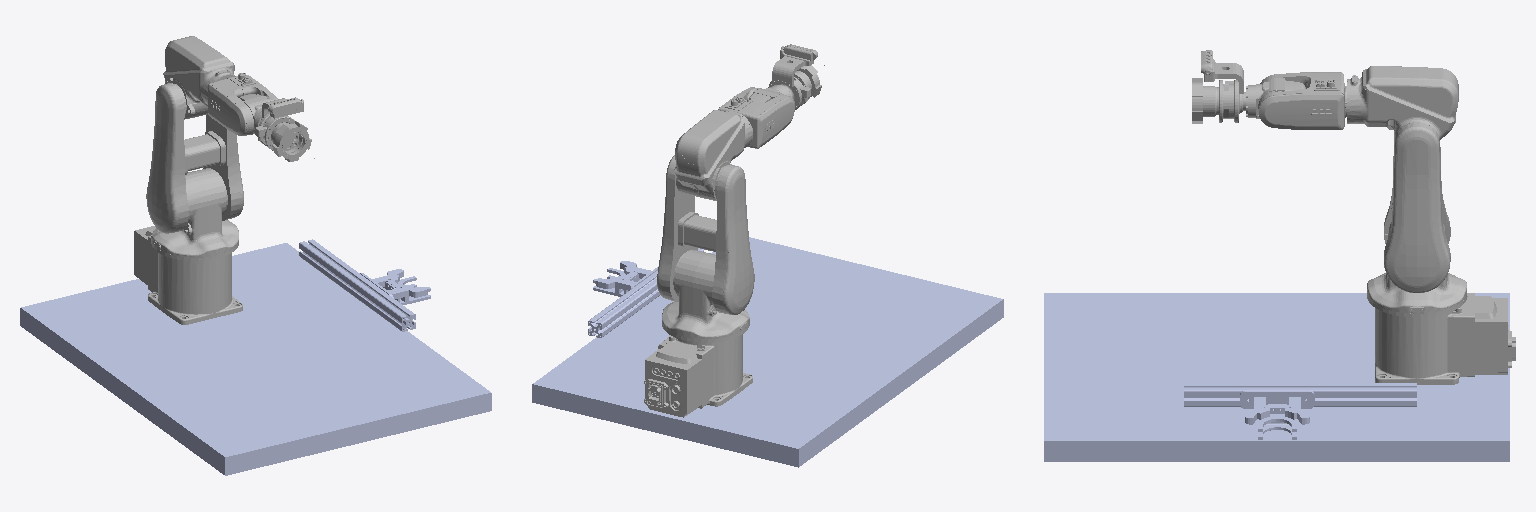
The robot description file, URDF, robot "FullSimV7":
<?xml version="1.0" encoding="utf-8"?>
<!-- This URDF was automatically created by SolidWorks to URDF Exporter! Originally created by [author] ([email redacted]) 
     Commit Version: 1.6.0-4-g7f85cfe  Build Version: 1.6.7995.38578
     For more information, please see http://wiki.ros.org/sw_urdf_exporter -->
<robot
  name="FullSimV7">
  <link
    name="base_link">
    <inertial>
      <origin
        xyz="8.01221018465203E-05 0.0420392814407755 0.0796375119984053"
        rpy="0 0 0" />
      <mass
        value="6.21501792819702" />
      <inertia
        ixx="0.0270340655331265"
        ixy="-2.57805354020046E-05"
        ixz="5.64681783540072E-06"
        iyy="0.0246211805699077"
        iyz="0.000231715875730709"
        izz="0.0251985329497968" />
    </inertial>
    <visual>
      <origin
        xyz="0 0 0"
        rpy="0 0 0" />
      <geometry>
        <mesh
          filename="package://FullSimV7/meshes/base_link.STL" />
      </geometry>
      <material
        name="">
        <color
          rgba="0.752941176470588 0.752941176470588 0.752941176470588 1" />
      </material>
    </visual>
    <collision>
      <origin
        xyz="0 0 0"
        rpy="0 0 0" />
      <geometry>
        <mesh
          filename="package://FullSimV7/meshes/base_link.STL" />
      </geometry>
    </collision>
  </link>
  <link
    name="table">
    <inertial>
      <origin
        xyz="-0.000587334659227223 -0.036835217277921 0.00384621822964123"
        rpy="0 0 0" />
      <mass
        value="38.2098634955696" />
      <inertia
        ixx="1.76951510127153"
        ixy="7.87860313616648E-13"
        ixz="-6.00695729462105E-09"
        iyy="4.89848881605849"
        iyz="-1.52454354921741E-06"
        izz="3.14477810036567" />
    </inertial>
    <visual>
      <origin
        xyz="0 0 0"
        rpy="0 0 0" />
      <geometry>
        <mesh
          filename="package://FullSimV7/meshes/table.STL" />
      </geometry>
      <material
        name="">
        <color
          rgba="0.792156862745098 0.819607843137255 0.933333333333333 1" />
      </material>
    </visual>
    <collision>
      <origin
        xyz="0 0 0"
        rpy="0 0 0" />
      <geometry>
        <mesh
          filename="package://FullSimV7/meshes/table.STL" />
      </geometry>
    </collision>
  </link>
  <joint
    name="robot_to_table"
    type="fixed">
    <origin
      xyz="0 -0.3 -0.06"
      rpy="-1.5707963267949 0 -1.5707963267949" />
    <parent
      link="base_link" />
    <child
      link="table" />
    <axis
      xyz="0 0 0" />
  </joint>
  <link
    name="link1">
    <inertial>
      <origin
        xyz="9.76732621401681E-05 -0.0934118532229969 -0.000119298053319146"
        rpy="0 0 0" />
      <mass
        value="3.06699528368256" />
      <inertia
        ixx="0.0122691119268035"
        ixy="-6.06301855244587E-08"
        ixz="-6.55505866407348E-08"
        iyy="0.010420464941063"
        iyz="1.02323146817326E-05"
        izz="0.0124355568876054" />
    </inertial>
    <visual>
      <origin
        xyz="0 0 0"
        rpy="0 0 0" />
      <geometry>
        <mesh
          filename="package://FullSimV7/meshes/link1.STL" />
      </geometry>
      <material
        name="">
        <color
          rgba="0.752941176470588 0.752941176470588 0.752941176470588 1" />
      </material>
    </visual>
    <collision>
      <origin
        xyz="0 0 0"
        rpy="0 0 0" />
      <geometry>
        <mesh
          filename="package://FullSimV7/meshes/link1.STL" />
      </geometry>
    </collision>
  </link>
  <joint
    name="joint1"
    type="continuous">
    <origin
      xyz="0 0 0.145"
      rpy="-1.5707963267949 0 -1.5707963267949" />
    <parent
      link="base_link" />
    <child
      link="link1" />
    <axis
      xyz="0 1 0" />
    <limit
      lower="-2.8798"
      upper="2.8798"
      effort="30"
      velocity="4.3633" />
  </joint>
  <link
    name="link2">
    <inertial>
      <origin
        xyz="0.000778290754818719 -0.111243319477227 -0.00211702728559995"
        rpy="0 0 0" />
      <mass
        value="3.90867225505932" />
      <inertia
        ixx="0.0381250476767169"
        ixy="2.39514964920965E-07"
        ixz="6.58338782216223E-07"
        iyy="0.00472640445966927"
        iyz="2.44754291823662E-05"
        izz="0.0405764423241449" />
    </inertial>
    <visual>
      <origin
        xyz="0 0 0"
        rpy="0 0 0" />
      <geometry>
        <mesh
          filename="package://FullSimV7/meshes/link2.STL" />
      </geometry>
      <material
        name="">
        <color
          rgba="0.752941176470588 0.752941176470588 0.752941176470588 1" />
      </material>
    </visual>
    <collision>
      <origin
        xyz="0 0 0"
        rpy="0 0 0" />
      <geometry>
        <mesh
          filename="package://FullSimV7/meshes/link2.STL" />
      </geometry>
    </collision>
  </link>
  <joint
    name="joint2"
    type="continuous">
    <origin
      xyz="0 -0.135 0"
      rpy="0 0 0" />
    <parent
      link="link1" />
    <child
      link="link2" />
    <axis
      xyz="0 0 1" />
    <limit
      lower="-1.9199"
      upper="1.9199"
      effort="30"
      velocity="4.3633" />
  </joint>
  <link
    name="link3">
    <inertial>
      <origin
        xyz="0.022807862091609 -0.0679103941631886 0.00106436584971425"
        rpy="0 0 0" />
      <mass
        value="2.94371284994558" />
      <inertia
        ixx="0.00563959160367682"
        ixy="0.00319915568103023"
        ixz="0.000121370698569511"
        iyy="0.0109004054439392"
        iyz="-0.000112947532054193"
        izz="0.0122023306054157" />
    </inertial>
    <visual>
      <origin
        xyz="0 0 0"
        rpy="0 0 0" />
      <geometry>
        <mesh
          filename="package://FullSimV7/meshes/link3.STL" />
      </geometry>
      <material
        name="">
        <color
          rgba="0.752941176470588 0.752941176470588 0.752941176470588 1" />
      </material>
    </visual>
    <collision>
      <origin
        xyz="0 0 0"
        rpy="0 0 0" />
      <geometry>
        <mesh
          filename="package://FullSimV7/meshes/link3.STL" />
      </geometry>
    </collision>
  </link>
  <joint
    name="joint3"
    type="continuous">
    <origin
      xyz="0 -0.27 0"
      rpy="0 0 0" />
    <parent
      link="link2" />
    <child
      link="link3" />
    <axis
      xyz="0 0 1" />
    <limit
      lower="-1.2217"
      upper="1.9199"
      effort="30"
      velocity="4.3633" />
  </joint>
  <link
    name="link4">
    <inertial>
      <origin
        xyz="0.0761733794571278 -0.0104055180752324 0.000153408208564695"
        rpy="0 0 0" />
      <mass
        value="1.32786358676143" />
      <inertia
        ixx="0.00104441110074889"
        ixy="-5.6933503274904E-06"
        ixz="-4.64060997837912E-05"
        iyy="0.00335577028738533"
        iyz="-8.37899053841392E-07"
        izz="0.00388434077701931" />
    </inertial>
    <visual>
      <origin
        xyz="0 0 0"
        rpy="0 0 0" />
      <geometry>
        <mesh
          filename="package://FullSimV7/meshes/link4.STL" />
      </geometry>
      <material
        name="">
        <color
          rgba="0.752941176470588 0.752941176470588 0.752941176470588 1" />
      </material>
    </visual>
    <collision>
      <origin
        xyz="0 0 0"
        rpy="0 0 0" />
      <geometry>
        <mesh
          filename="package://FullSimV7/meshes/link4.STL" />
      </geometry>
    </collision>
  </link>
  <joint
    name="joint4"
    type="continuous">
    <origin
      xyz="0.148530487442461 -0.0700000000000001 0"
      rpy="0 0 0" />
    <parent
      link="link3" />
    <child
      link="link4" />
    <axis
      xyz="1 0 0" />
    <limit
      lower="-2.7953"
      upper="2.7953"
      effort="30"
      velocity="5.5851" />
  </joint>
  <link
    name="link5">
    <inertial>
      <origin
        xyz="-0.00109483653040998 -0.00993778308121185 -3.68522372524093E-05"
        rpy="0 0 0" />
      <mass
        value="0.546626828584249" />
      <inertia
        ixx="0.000404579534029812"
        ixy="-4.2562823211924E-07"
        ixz="1.84466415886299E-06"
        iyy="0.000290010440170718"
        iyz="-8.5801776169596E-09"
        izz="0.000367479482204773" />
    </inertial>
    <visual>
      <origin
        xyz="0 0 0"
        rpy="0 0 0" />
      <geometry>
        <mesh
          filename="package://FullSimV7/meshes/link5.STL" />
      </geometry>
      <material
        name="">
        <color
          rgba="0.752941176470588 0.752941176470588 0.752941176470588 1" />
      </material>
    </visual>
    <collision>
      <origin
        xyz="0 0 0"
        rpy="0 0 0" />
      <geometry>
        <mesh
          filename="package://FullSimV7/meshes/link5.STL" />
      </geometry>
    </collision>
  </link>
  <joint
    name="joint5"
    type="continuous">
    <origin
      xyz="0.153469512557526 -0.0199999999999999 0"
      rpy="-3.14159265358979 0 0" />
    <parent
      link="link4" />
    <child
      link="link5" />
    <axis
      xyz="0 0 1" />
    <limit
      lower="-2.0944"
      upper="2.0944"
      effort="30"
      velocity="5.5851" />
  </joint>
  <link
    name="link6">
    <inertial>
      <origin
        xyz="0.00121542455406494 0.0513577285751537 0.0155013484239185"
        rpy="0 0 0" />
      <mass
        value="0.531526383714213" />
      <inertia
        ixx="0.00029979262466505"
        ixy="4.10956668633225E-06"
        ixz="1.78389382276731E-06"
        iyy="0.000432419044233939"
        iyz="-1.40279393876341E-05"
        izz="0.000340964239376309" />
    </inertial>
    <visual>
      <origin
        xyz="0 0 0"
        rpy="0 0 0" />
      <geometry>
        <mesh
          filename="package://FullSimV7/meshes/link6.STL" />
      </geometry>
      <material
        name="">
        <color
          rgba="0.752941176470588 0.752941176470588 0.752941176470588 1" />
      </material>
    </visual>
    <collision>
      <origin
        xyz="0 0 0"
        rpy="0 0 0" />
      <geometry>
        <mesh
          filename="package://FullSimV7/meshes/link6.STL" />
      </geometry>
    </collision>
  </link>
  <joint
    name="joint6"
    type="continuous">
    <origin
      xyz="0.0700000000000162 -0.00999999999999979 0"
      rpy="1.5707963267949 -1.57079630572147 3.14159265358979" />
    <parent
      link="link5" />
    <child
      link="link6" />
    <axis
      xyz="0 1 0" />
    <limit
      lower="-6.9813"
      upper="6.9813"
      effort="30"
      velocity="7.3304" />
  </joint>
  <link
    name="dummy_with_out_tool">
    <inertial>
      <origin
        xyz="-6.08150040676256E-14 -0.00999999999989892 0"
        rpy="0 0 0" />
      <mass
        value="4.38757242489562E-06" />
      <inertia
        ixx="1.89756037081267E-12"
        ixy="5.06471855932574E-28"
        ixz="4.5203839485621E-43"
        iyy="3.0638586708094E-12"
        iyz="2.6102017677249E-28"
        izz="1.89756037081267E-12" />
    </inertial>
    <visual>
      <origin
        xyz="0 0 0"
        rpy="0 0 0" />
      <geometry>
        <mesh
          filename="package://FullSimV7/meshes/dummy_with_out_tool.STL" />
      </geometry>
      <material
        name="">
        <color
          rgba="0.792156862745098 0.819607843137255 0.933333333333333 1" />
      </material>
    </visual>
    <collision>
      <origin
        xyz="0 0 0"
        rpy="0 0 0" />
      <geometry>
        <mesh
          filename="package://FullSimV7/meshes/dummy_with_out_tool.STL" />
      </geometry>
    </collision>
  </link>
  <joint
    name="dummy_1_joint"
    type="fixed">
    <origin
      xyz="0 0.0938244 0"
      rpy="3.14159265358979 0 3.14159265358979" />
    <parent
      link="link6" />
    <child
      link="dummy_with_out_tool" />
    <axis
      xyz="0 0 0" />
  </joint>
  <link
    name="dummy_with_tool">
    <inertial>
      <origin
        xyz="-6.07597235231416E-14 -0.00999999999987444 1.11022302462516E-16"
        rpy="0 0 0" />
      <mass
        value="4.38757242489513E-06" />
      <inertia
        ixx="1.89756037081238E-12"
        ixy="-5.06471855932543E-28"
        ixz="-2.12907918298444E-43"
        iyy="3.06385867080906E-12"
        iyz="4.76720308320444E-28"
        izz="1.89756037081238E-12" />
    </inertial>
    <visual>
      <origin
        xyz="0 0 0"
        rpy="0 0 0" />
      <geometry>
        <mesh
          filename="package://FullSimV7/meshes/dummy_with_tool.STL" />
      </geometry>
      <material
        name="">
        <color
          rgba="0.792156862745098 0.819607843137255 0.933333333333333 1" />
      </material>
    </visual>
    <collision>
      <origin
        xyz="0 0 0"
        rpy="0 0 0" />
      <geometry>
        <mesh
          filename="package://FullSimV7/meshes/dummy_with_tool.STL" />
      </geometry>
    </collision>
  </link>
  <joint
    name="dummy_2_joint"
    type="fixed">
    <origin
      xyz="0 0.106 0"
      rpy="3.14159265358979 0 0" />
    <parent
      link="dummy_with_out_tool" />
    <child
      link="dummy_with_tool" />
    <axis
      xyz="0 0 0" />
  </joint>
</robot>

--- Facts derived from the render (not from the file) ---
Views: 3 orthographic renders of the robot side by side, from view 1: azimuth 30°, elevation 25°; view 2: azimuth 150°, elevation 25°; view 3: azimuth 270°, elevation 25°.
Model FullSimV7 with 10 links and 9 joints (6 continuous, 3 fixed), rooted at base_link, posed all joints at 0.
Links seen in each view (by area): view 1: table, link2, base_link, link1, link3, link6, link4; view 2: table, link2, base_link, link1, link3, link4, link6; view 3: table, base_link, link2, link3, link4, link1, link6, link5.
Link boxes in pixels (left/top/right/bottom): table: left=20, top=239, right=491, bottom=475; link2: left=146, top=83, right=243, bottom=233; base_link: left=134, top=226, right=242, bottom=324; link1: left=151, top=168, right=238, bottom=264; link3: left=163, top=36, right=235, bottom=119; link6: left=255, top=97, right=311, bottom=161; link4: left=208, top=73, right=277, bottom=135; table: left=532, top=237, right=1003, bottom=467; link2: left=657, top=155, right=754, bottom=314; base_link: left=644, top=334, right=752, bottom=417; link1: left=662, top=250, right=749, bottom=342; link3: left=674, top=110, right=752, bottom=200; link4: left=718, top=87, right=794, bottom=148; link6: left=768, top=44, right=821, bottom=109; table: left=1044, top=293, right=1509, bottom=461; base_link: left=1375, top=293, right=1515, bottom=384; link2: left=1384, top=122, right=1450, bottom=292; link3: left=1347, top=66, right=1458, bottom=140; link4: left=1258, top=72, right=1346, bottom=129; link1: left=1367, top=224, right=1466, bottom=317; link6: left=1192, top=50, right=1245, bottom=123; link5: left=1246, top=78, right=1305, bottom=118.
Size in the robot's own frame: 0.8455 by 1.01 by 0.7812 metres.
Meshes: 10 distinct files referenced, 10 mesh visuals loaded (10 binary STL).